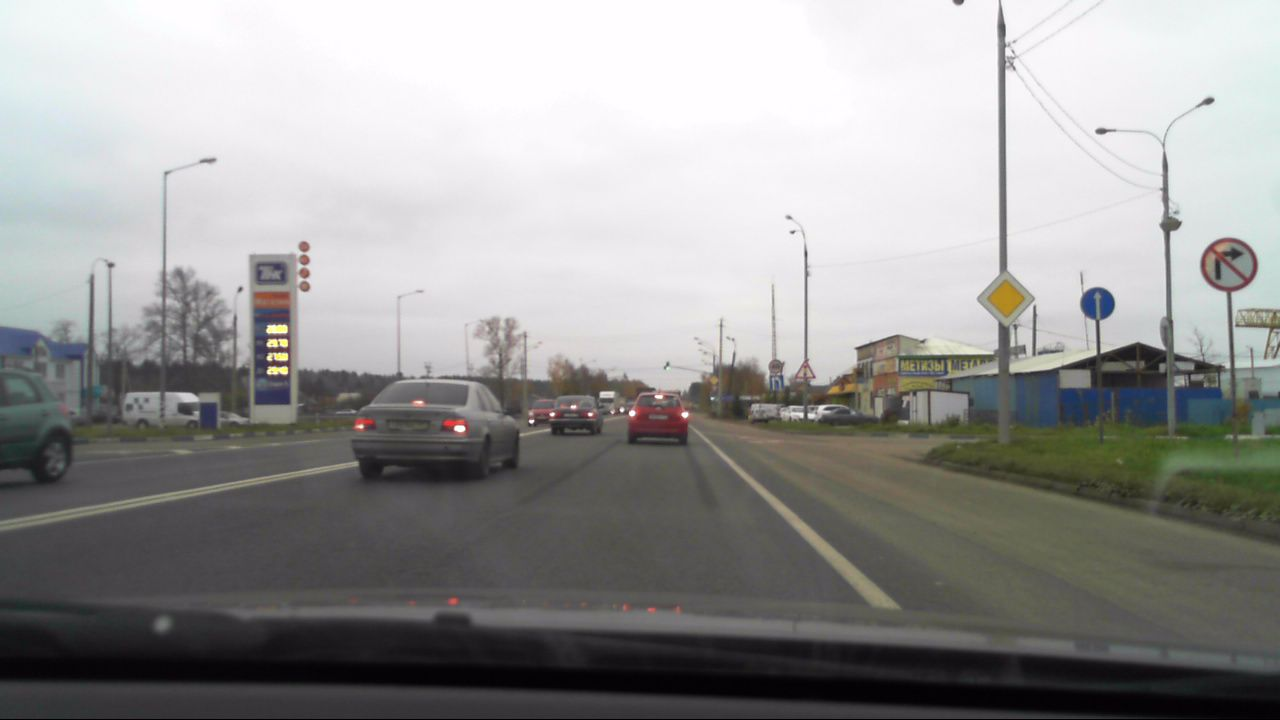speed_warning_40: (764, 356, 785, 375)
